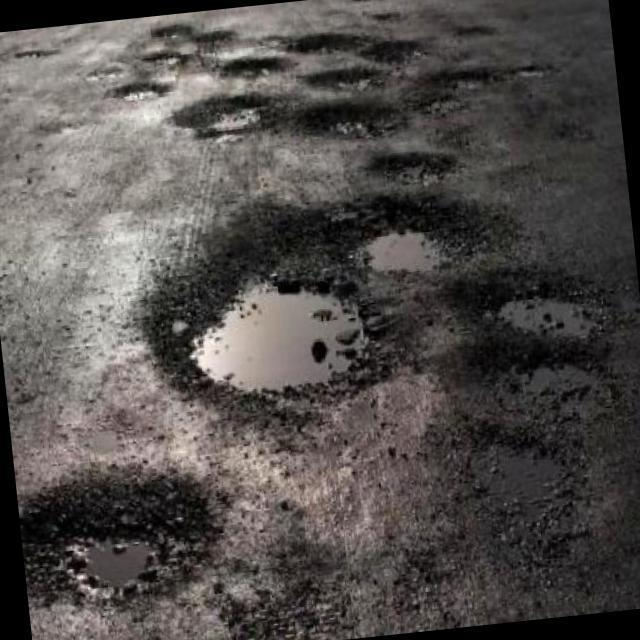Pothole: (19, 466, 215, 609), (188, 284, 365, 394), (492, 285, 613, 352), (169, 94, 275, 143), (293, 103, 411, 138), (359, 232, 455, 274), (368, 152, 459, 191)
